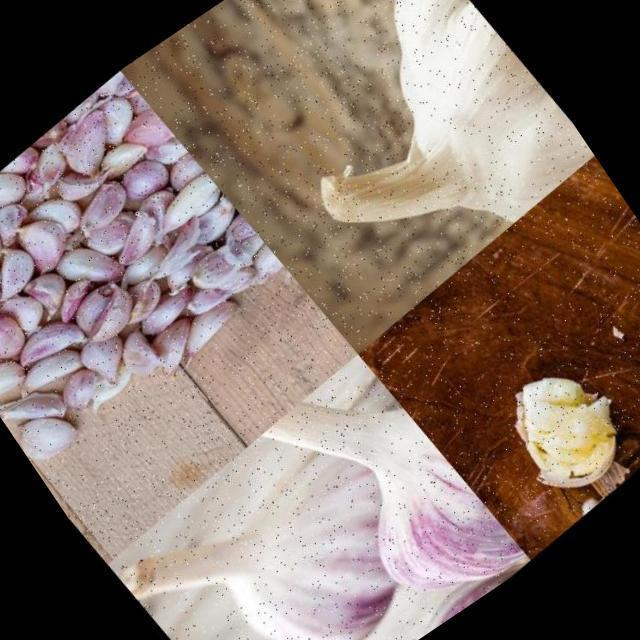garlic: (0, 54, 310, 482), (214, 0, 609, 332), (99, 381, 481, 640), (246, 339, 532, 640)
